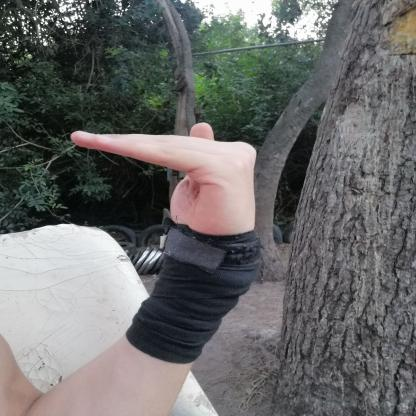KHAA: (52, 111, 282, 257)
